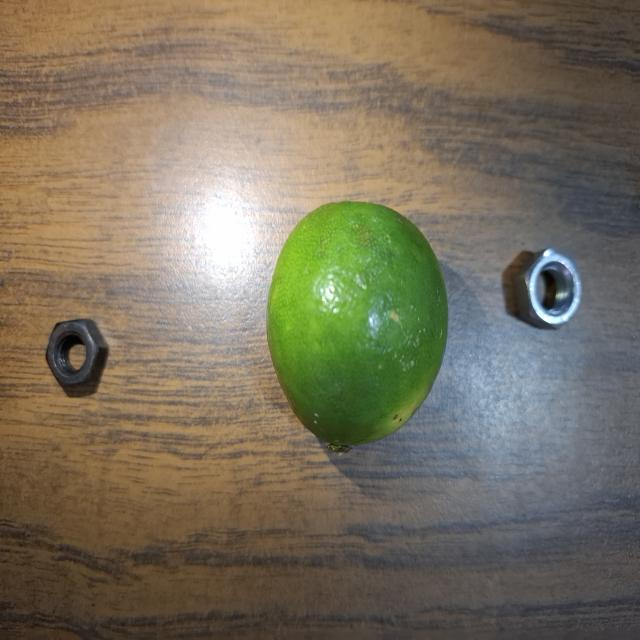limon: (260, 196, 455, 464)
milimetrico: (38, 307, 126, 399)
tuerca: (498, 233, 595, 351)
